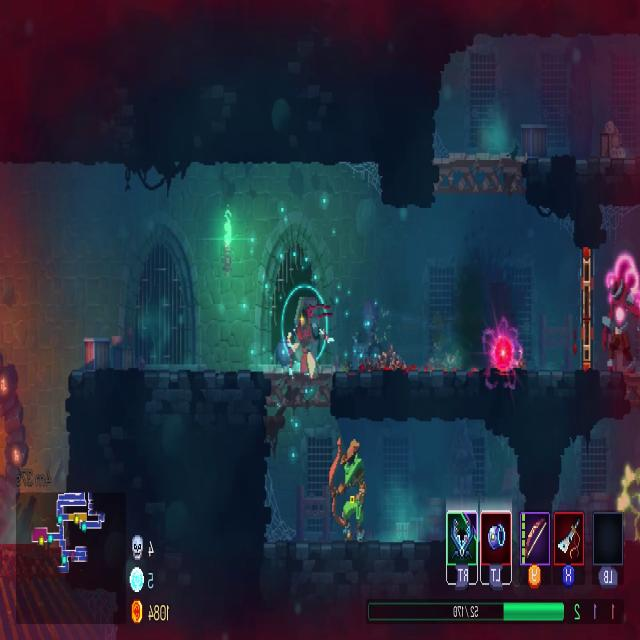agents: (288, 310, 333, 378)
enemy_archer: (329, 438, 365, 541)
enemy_green_puncher: (618, 465, 640, 540)
enemy_purple_big: (602, 254, 640, 374)
